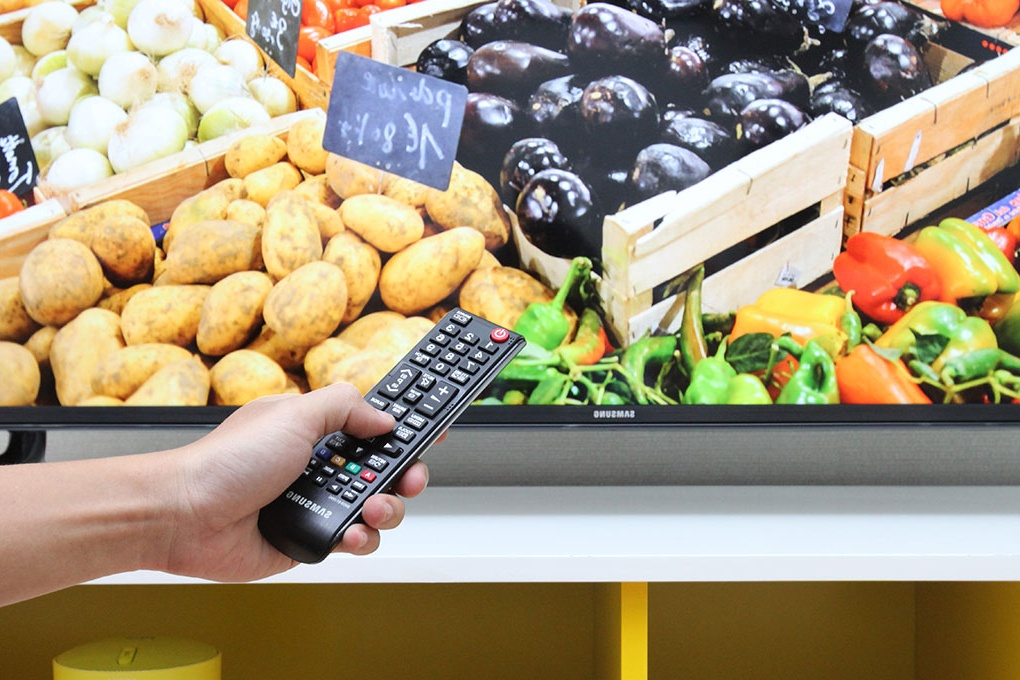SAMSUNG: (220, 441, 384, 580), (549, 369, 683, 496)
